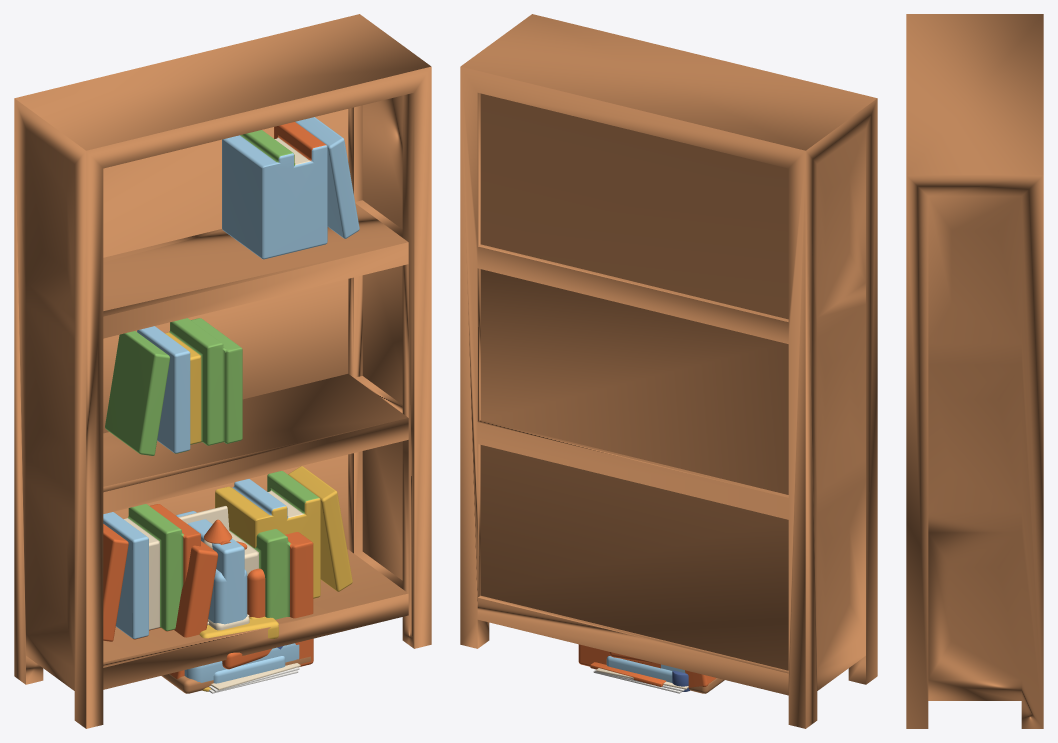
File: interest_book_v3_8.glb
3 renders of one model, left to right at view 1: azimuth 30°, elevation 25°; view 2: azimuth 150°, elevation 25°; view 3: azimuth 270°, elevation 25°, orthographic. The views are drawn at different scales.
Visible parts, largest first — view 1: bookshelf_frame, bookshelf, book_stack_books, comic_stack, sf_books, typewriter_base, newspaper; view 2: bookshelf_frame, book_stack_books, comic_stack; view 3: bookshelf_frame.
Part boxes in pixels (x1,y1,x2,y2): bookshelf_frame: (14,14,431,728); bookshelf: (103,117,359,641); book_stack_books: (169,511,313,678); comic_stack: (199,614,285,683); sf_books: (208,568,265,630); typewriter_base: (184,643,299,682); newspaper: (209,663,300,693); bookshelf_frame: (460,14,877,728); book_stack_books: (578,644,716,688); comic_stack: (606,652,672,682); bookshelf_frame: (906,14,1043,728).
Bounding box in the file's own units: 0.8 × 1.28 × 0.288.
